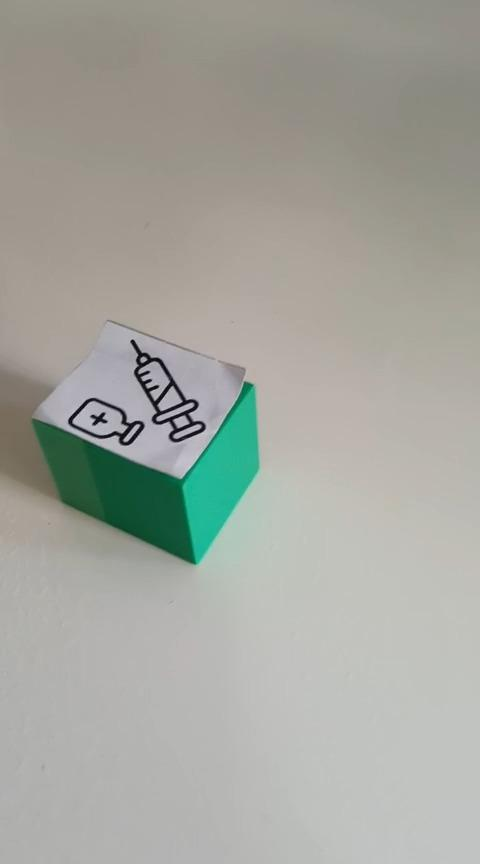antiseptic cream: (29, 318, 261, 565)
